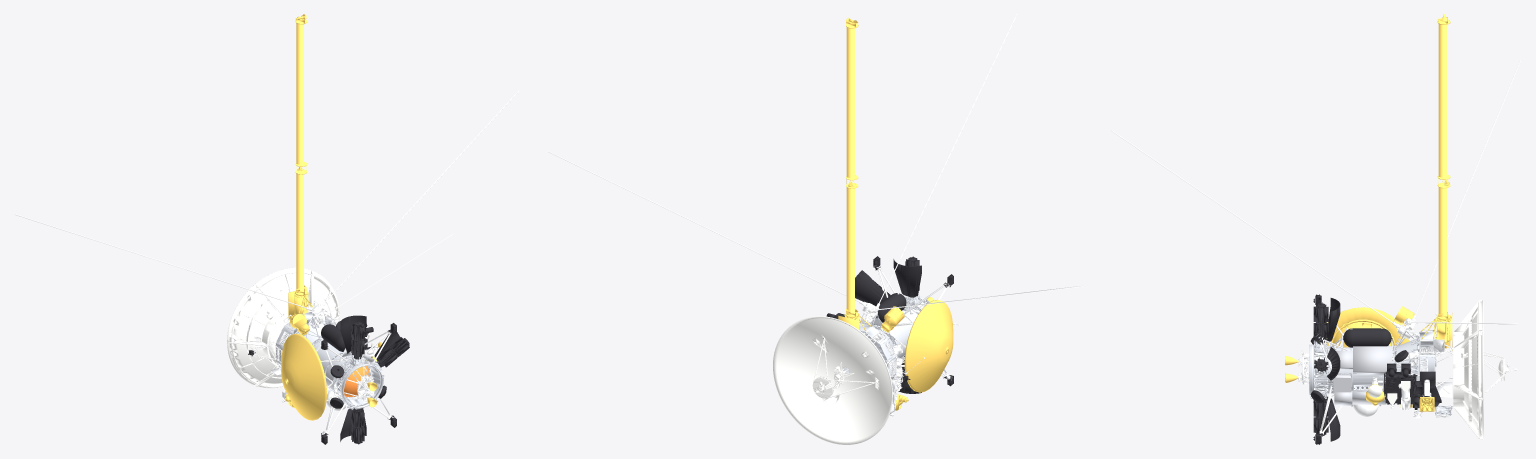
Rendered from cassini-satellite.glb.
3 renders of one model, left to right at view 1: azimuth 30°, elevation 25°; view 2: azimuth 150°, elevation 25°; view 3: azimuth 270°, elevation 25°, orthographic. The views are drawn at different scales.
Visible parts, largest first — view 1: cassini_a2, cassini_13, cassini_14, cassini_a4, cassini_10, cassini_11, cassini_15; view 2: cassini_a2, cassini_13, cassini_14, cassini_10, cassini_a4, cassini_a6; view 3: cassini_a4, cassini_a2, cassini_13, cassini_14, cassini_a8, cassini_10, cassini_11, cassini_a1, cassini_a6.
Boxes of the visible parts, <box> form: cassini_a2: <box>227,267,340,388</box>; cassini_13: <box>14,90,519,420</box>; cassini_14: <box>288,14,313,319</box>; cassini_a4: <box>313,323,396,444</box>; cassini_10: <box>330,315,408,441</box>; cassini_11: <box>330,321,409,444</box>; cassini_15: <box>326,366,369,411</box>; cassini_a2: <box>773,316,893,444</box>; cassini_13: <box>548,14,1082,416</box>; cassini_14: <box>838,18,872,331</box>; cassini_10: <box>855,259,959,393</box>; cassini_a4: <box>859,256,953,386</box>; cassini_a6: <box>844,323,896,379</box>; cassini_a4: <box>1301,294,1394,444</box>; cassini_a2: <box>1434,299,1517,439</box>; cassini_13: <box>1111,59,1521,418</box>; cassini_14: <box>1421,14,1452,350</box>; cassini_a8: <box>1366,363,1452,411</box>; cassini_10: <box>1301,298,1340,441</box>; cassini_11: <box>1310,303,1328,435</box>; cassini_a1: <box>1394,325,1419,380</box>; cassini_a6: <box>1419,331,1436,407</box>.
Bounding box in the file's own units: 705 × 516 × 458.
